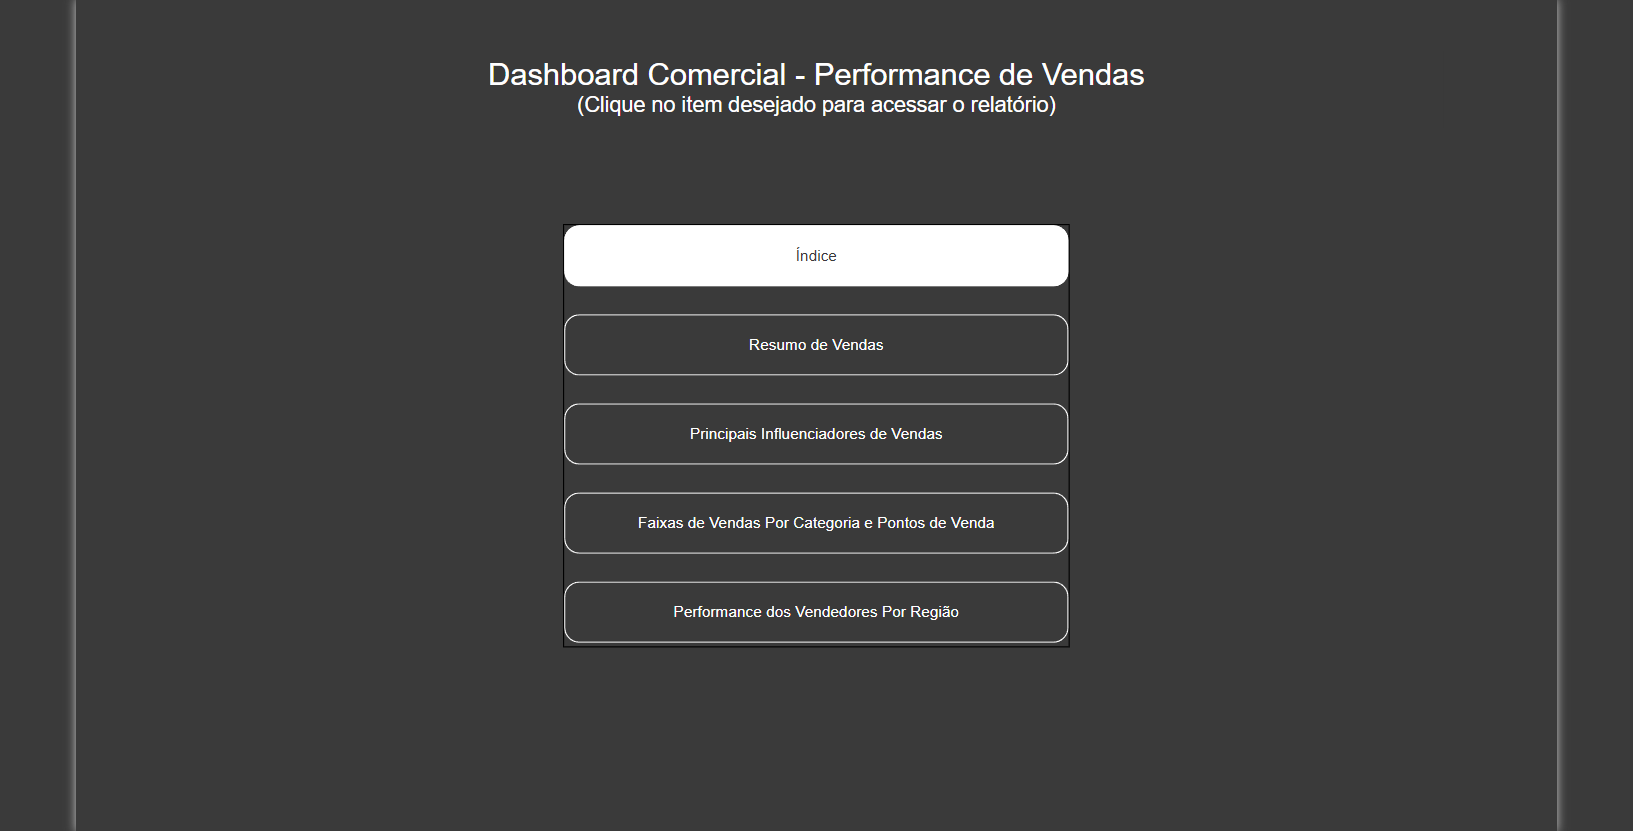

Layout of this report page (visuals, bound fields, positions):
{"tool":"powerbi","page":{"name":"Índice","canvas":[1280,720],"ordinal":0},"visuals":[{"type":"pageNavigator","box":[421,194.8,438.1,366.3],"z":0},{"type":"textbox","box":[97.9,44.9,1084.5,65.5],"z":1}]}

Visuals, with their boxes on the page's 1280x720 design canvas (x1, y1, x2, y2). These are canvas units, not pixel positions in the 1633x831 screenshot, which may show the page scaled, cropped or inside an application window:
pageNavigator: x1=421 y1=195 x2=859 y2=561
textbox: x1=98 y1=45 x2=1182 y2=110
